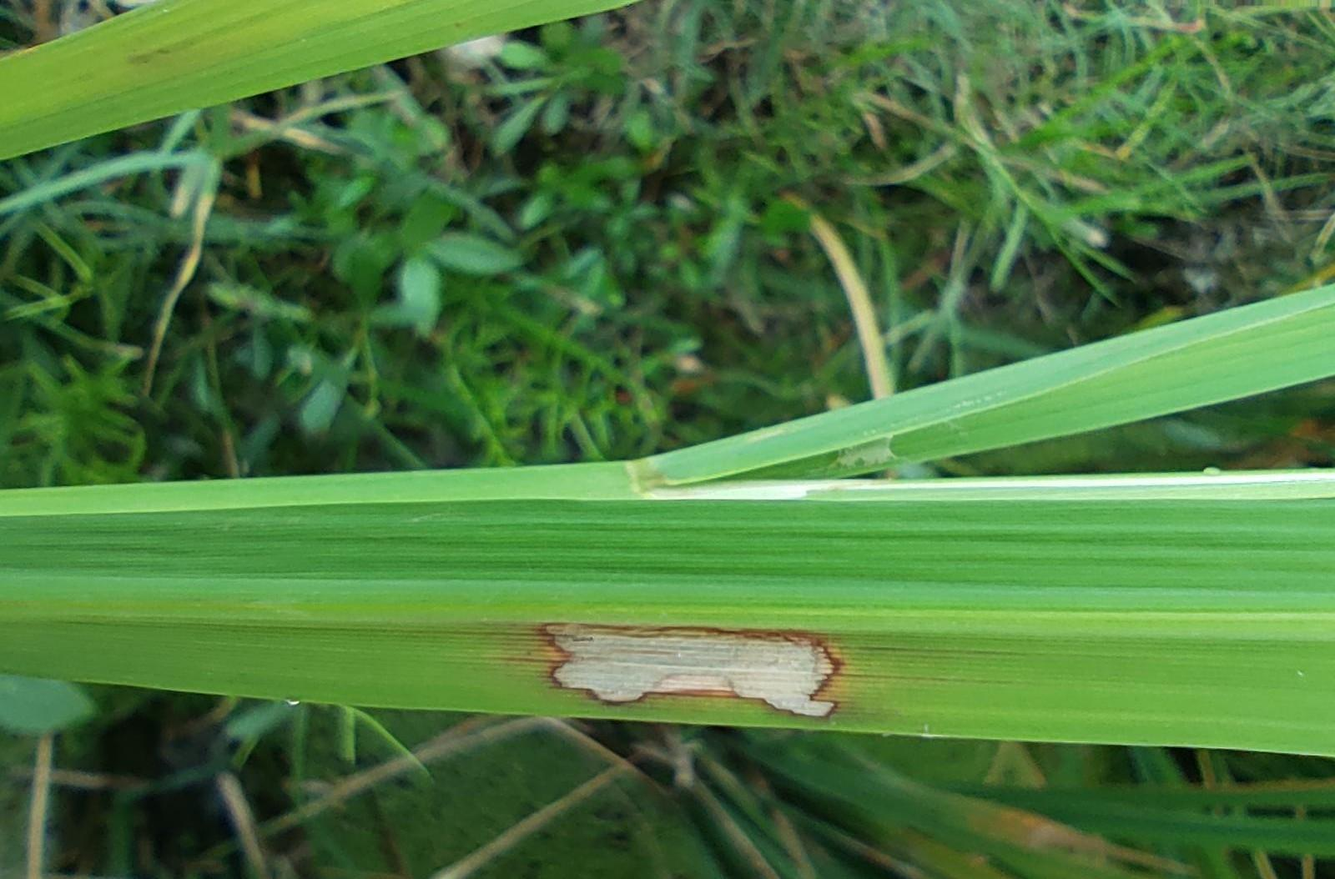LEAF: (0, 500, 1334, 756)
LEAF BLAST: (533, 620, 847, 721)
